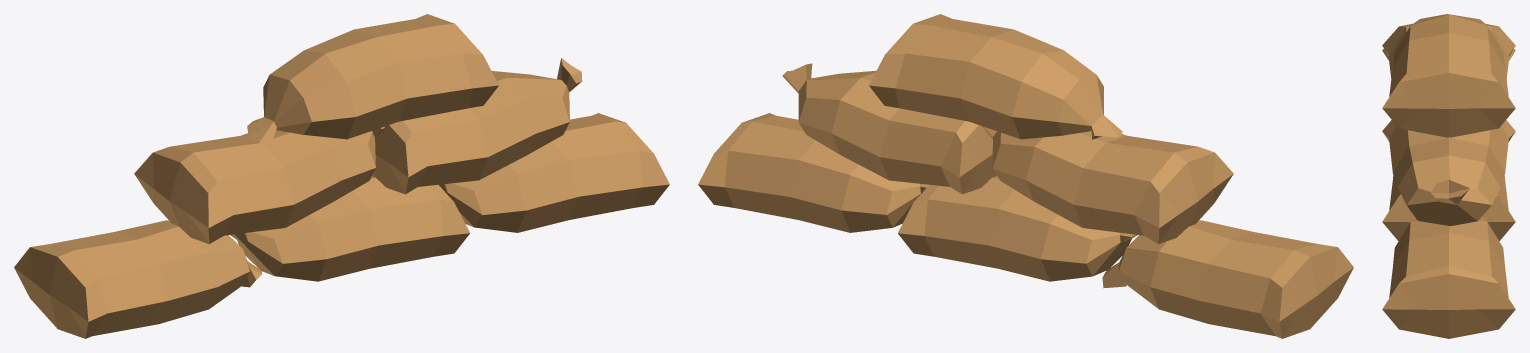
The model's file is ww2_sandbags-straight.fbx.
3 views of the same model, side by side, from view 1: azimuth 30°, elevation 25°; view 2: azimuth 150°, elevation 25°; view 3: azimuth 270°, elevation 25° (orthographic). The views are drawn at different scales.
Visible parts, largest first — view 1: ww2_sandbags_straight; view 2: ww2_sandbags_straight; view 3: ww2_sandbags_straight.
Part boxes in pixels (box(x1,y1,x2,y2)): ww2_sandbags_straight: box(14, 14, 669, 338); ww2_sandbags_straight: box(698, 14, 1353, 338); ww2_sandbags_straight: box(1382, 14, 1515, 338).
Size of the model in its own units: 200 by 72.46 by 44.11.
